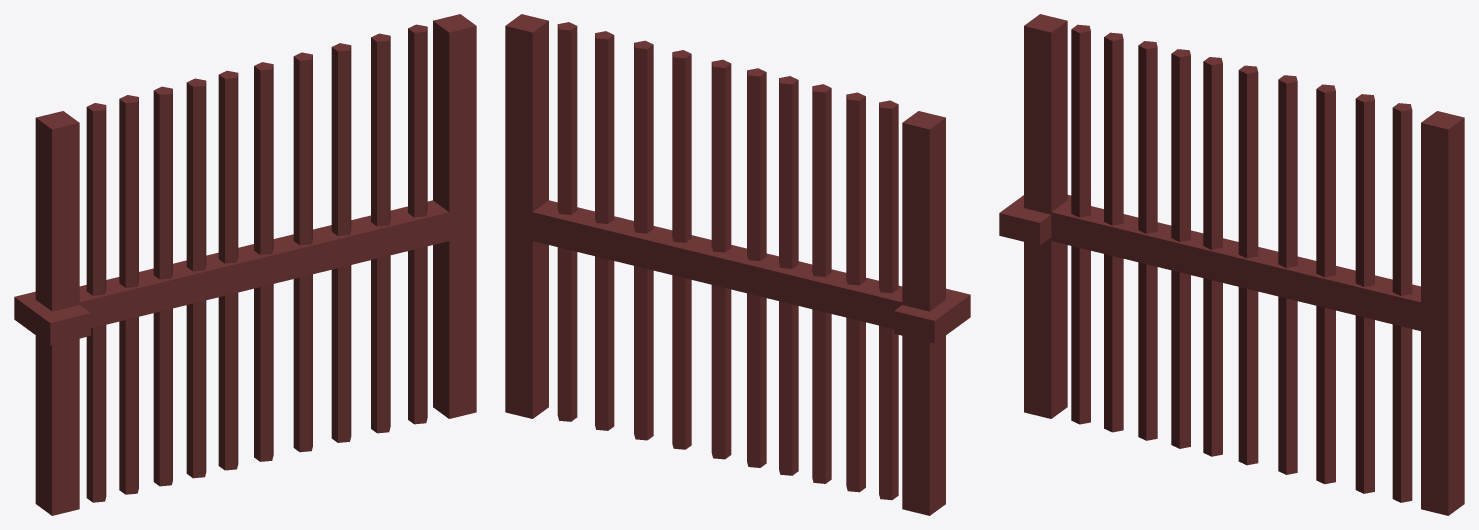
File: Portao_2.fbx
3 renders of one model, left to right at view 1: azimuth 30°, elevation 25°; view 2: azimuth 150°, elevation 25°; view 3: azimuth 330°, elevation 25°, orthographic.
Visible parts, largest first — view 1: pCylinder32; view 2: pCylinder32; view 3: pCylinder32.
Part boxes in pixels (x1,y1,x2,y2): pCylinder32: (14, 14, 476, 515); pCylinder32: (505, 14, 970, 515); pCylinder32: (999, 14, 1464, 515).
Bounding box in the file's own units: 5.76 × 4.92 × 0.8203.
